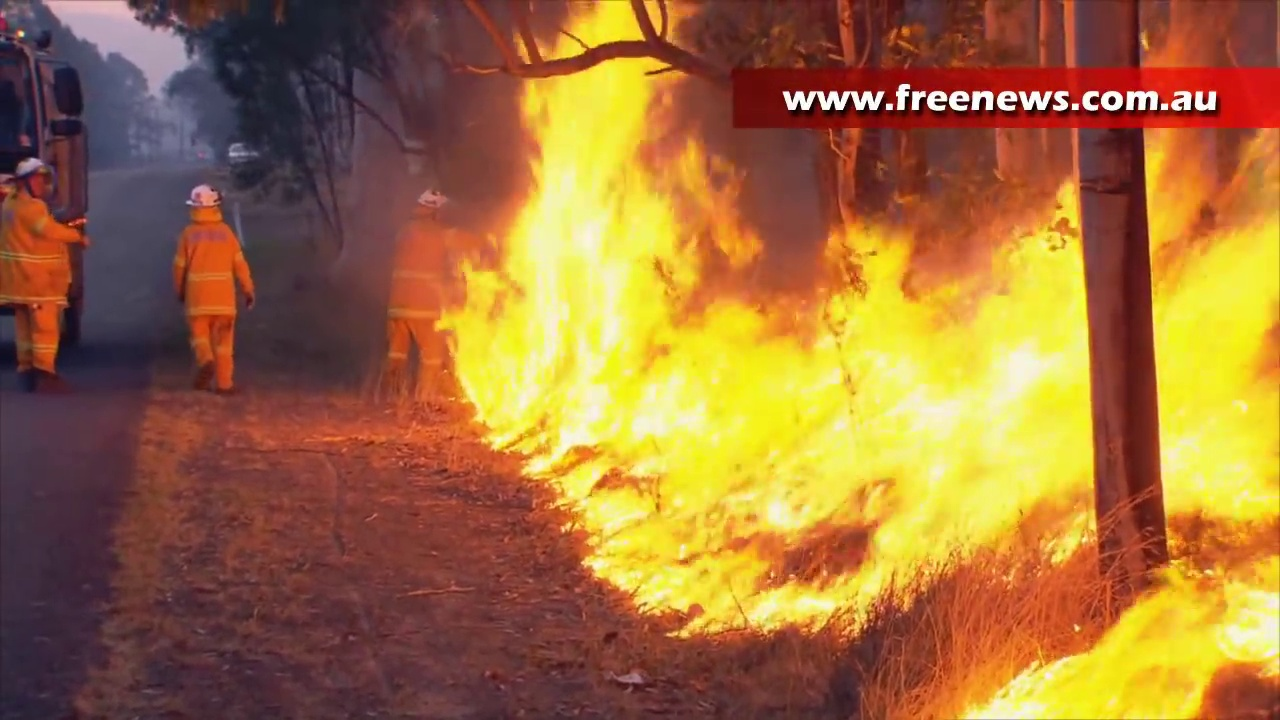fire: (459, 231, 1102, 635), (1148, 132, 1279, 519), (1007, 561, 1280, 720), (524, 5, 682, 226)
